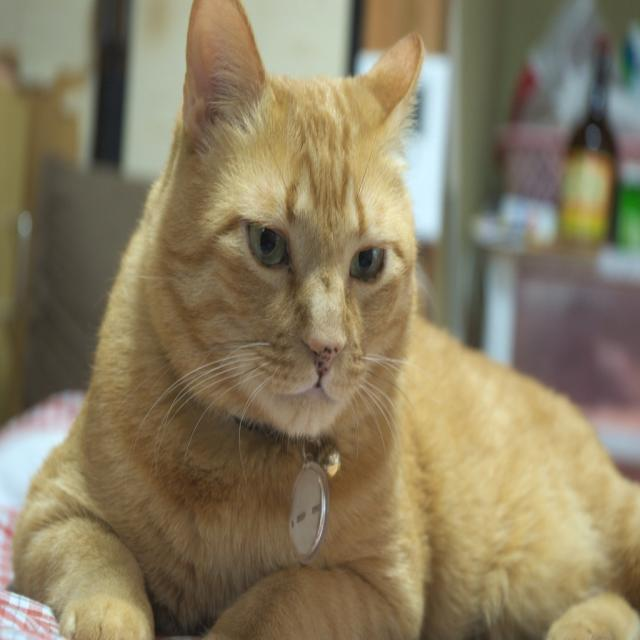Cat: (11, 0, 640, 639)
